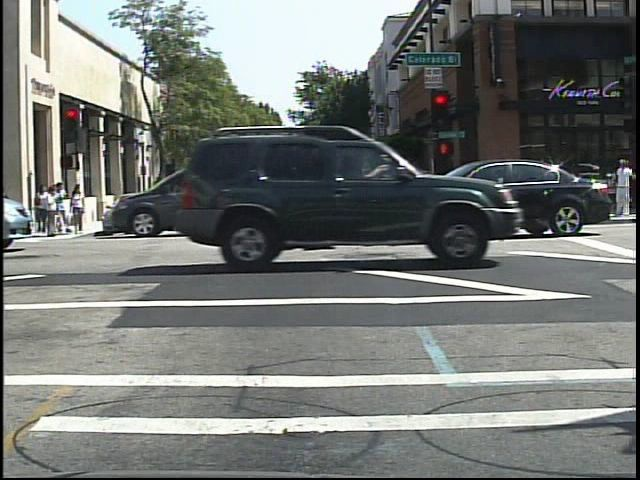person: (612, 155, 637, 219), (165, 181, 183, 221)
